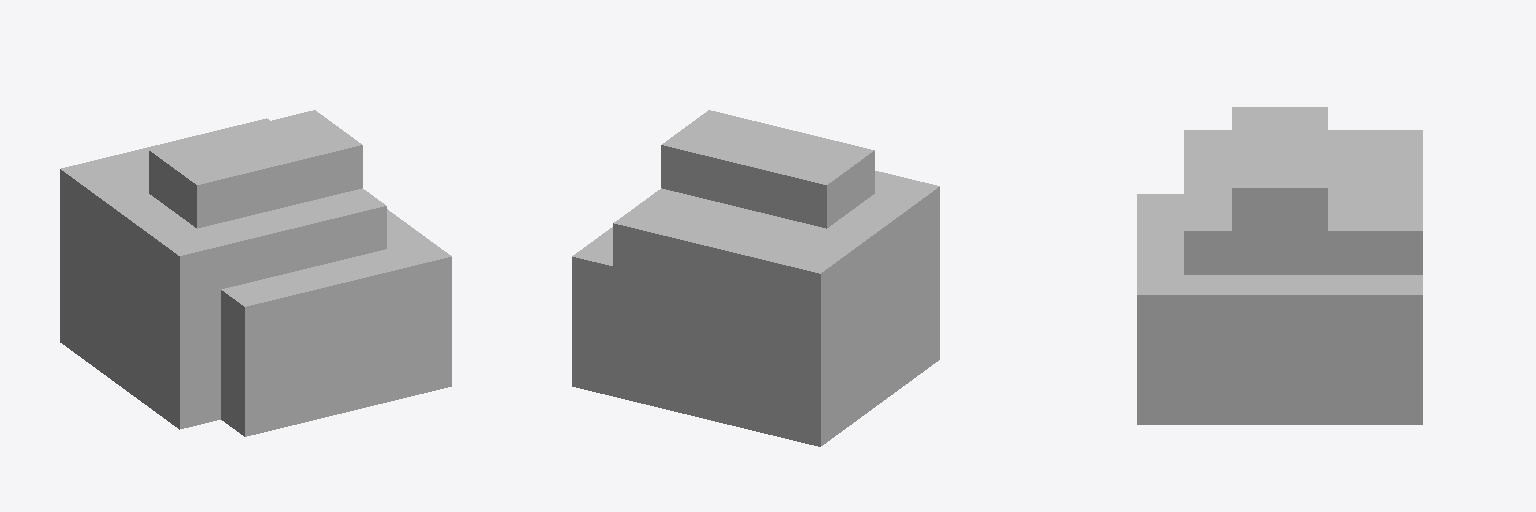
3 renders of one model, left to right at view 1: azimuth 30°, elevation 25°; view 2: azimuth 150°, elevation 25°; view 3: azimuth 270°, elevation 25°, orthographic.
Parts seen in each view (by area): view 1: rock_aus; view 2: rock_aus; view 3: rock_aus.
Boxes of the visible parts, x1,y1,x2,y2 form: rock_aus: [60, 110, 451, 436]; rock_aus: [572, 110, 939, 446]; rock_aus: [1137, 107, 1422, 424].
Bounding box in the file's own units: 0.75 × 0.625 × 0.75.